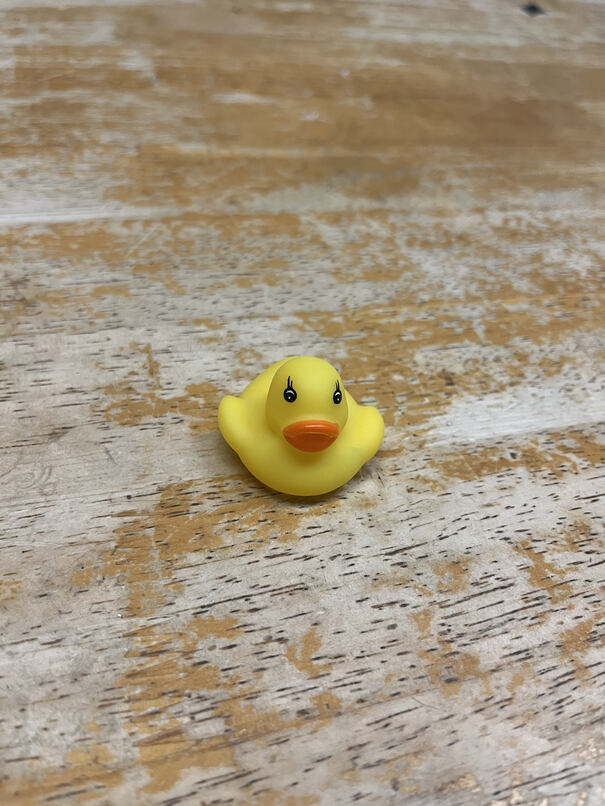duck_regular: (212, 355, 398, 498)
